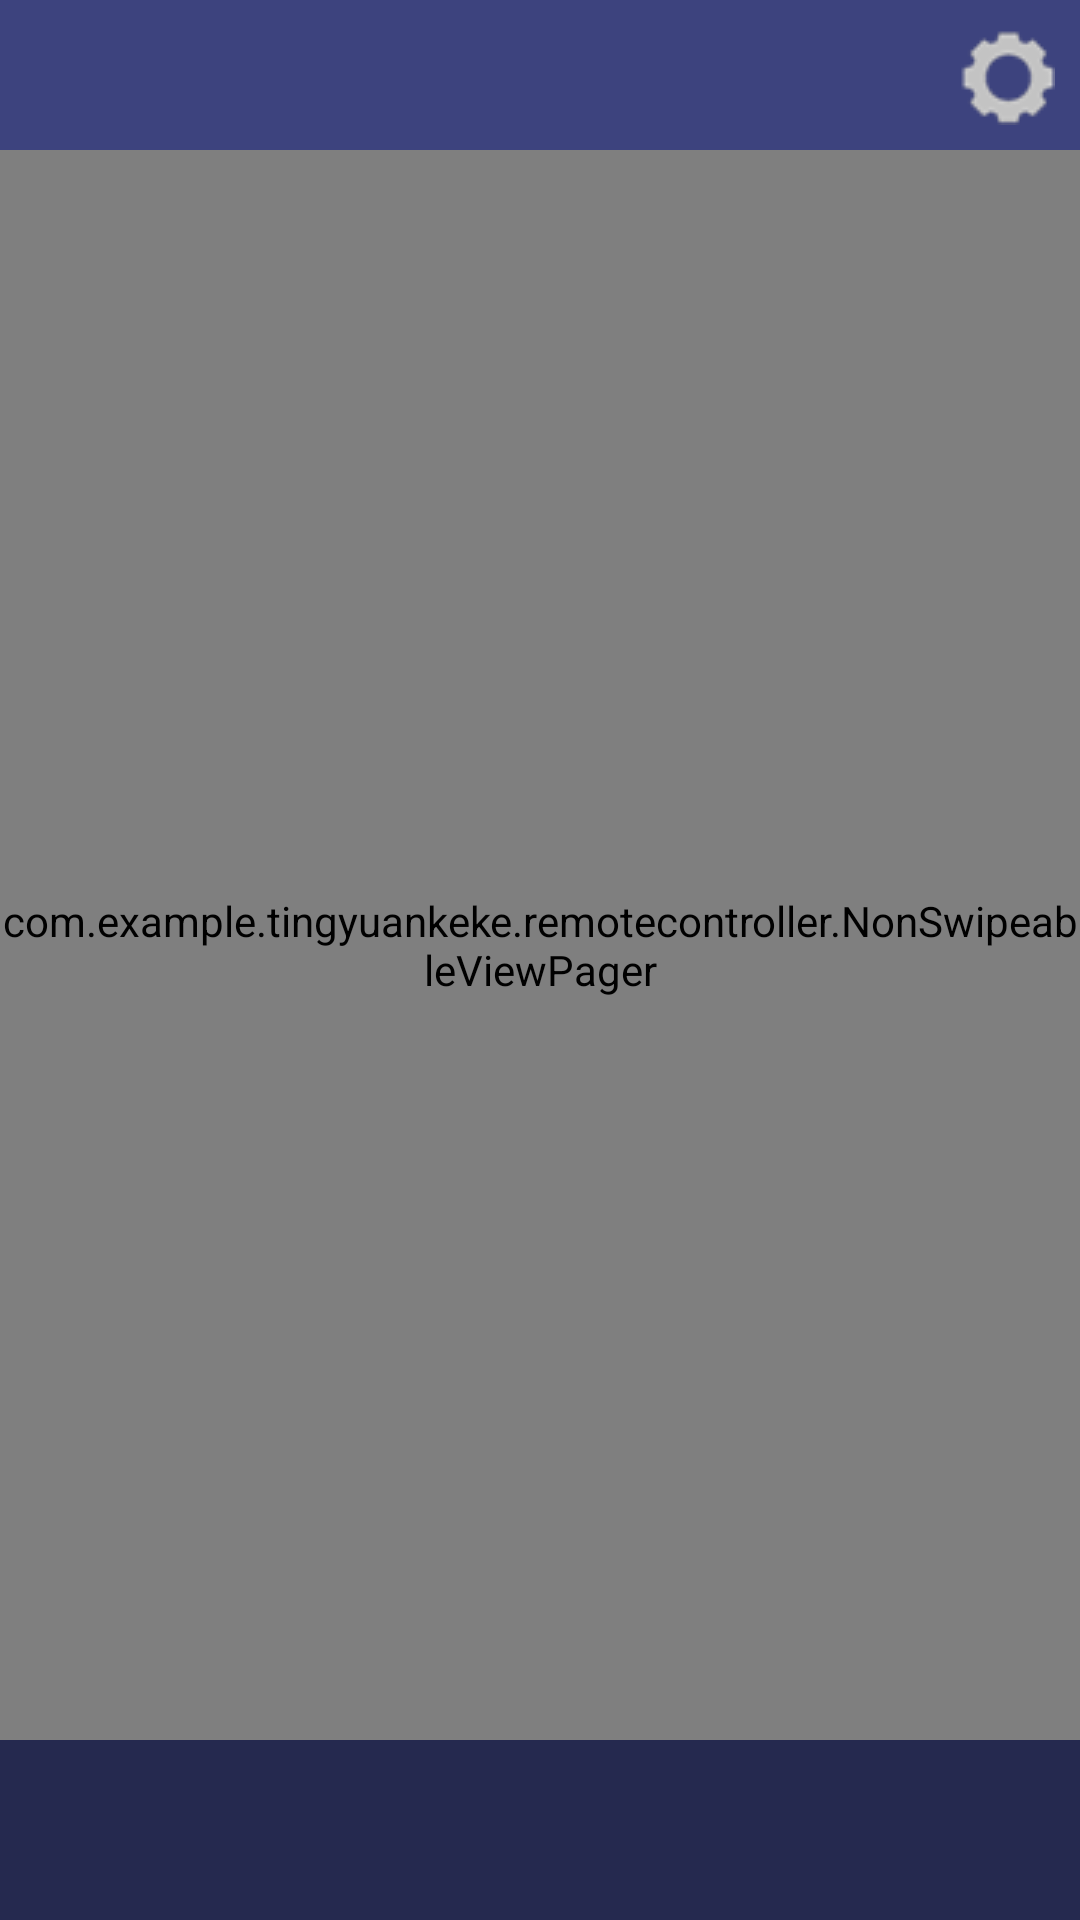

Icons on this 1080px×1920px Android screen, each with the point to tap as (x=x, y=y):
setting: (x=1008, y=77)
